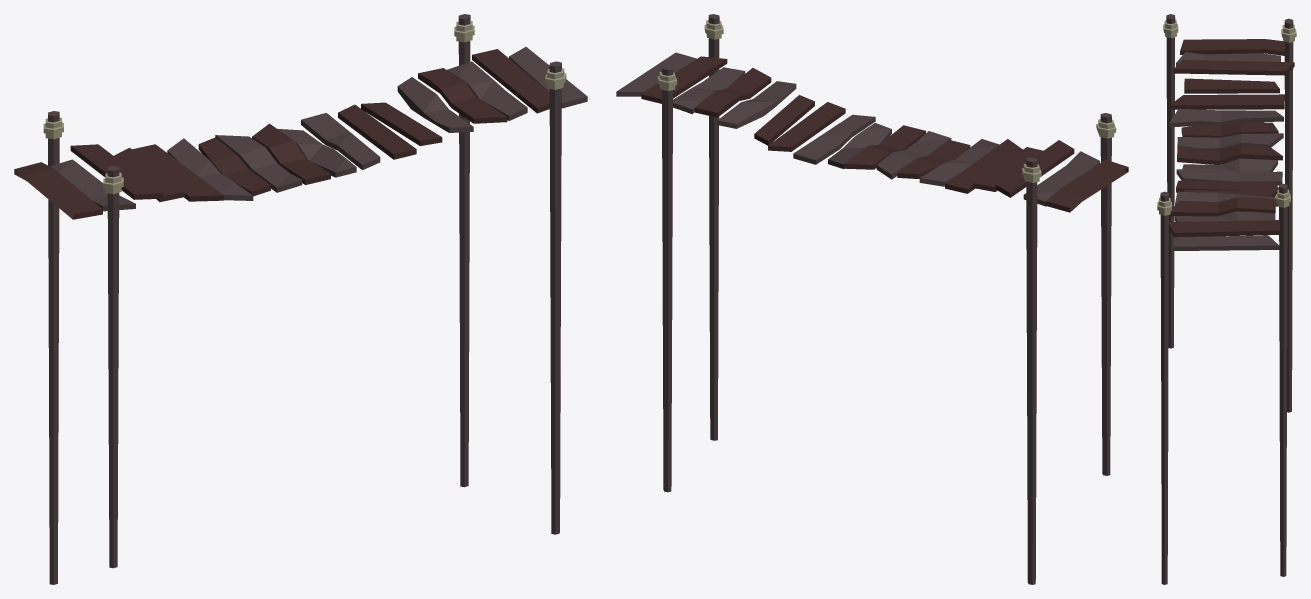
The model's file is bridge.fbx.
The picture shows the model from 3 angles, left to right: view 1: azimuth 30°, elevation 25°; view 2: azimuth 150°, elevation 25°; view 3: azimuth 270°, elevation 25°; orthographic projection. The views are drawn at different scales.
Parts seen in each view (by area): view 1: village.001; view 2: village.001; view 3: village.001.
Part boxes in pixels (<box>): village.001: <box>14,14,587,584</box>; village.001: <box>616,14,1128,584</box>; village.001: <box>1157,14,1296,584</box>.
Size of the model in its own units: 2576 by 2263 by 732.
